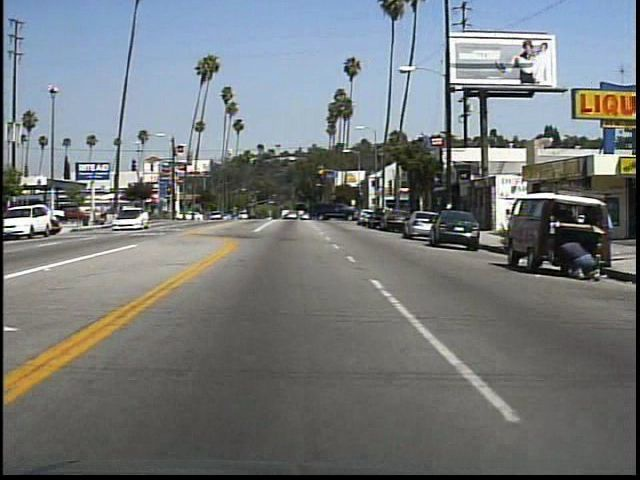person: (556, 235, 601, 284)
